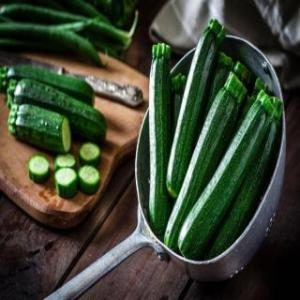zucchini: (2, 98, 86, 152)
